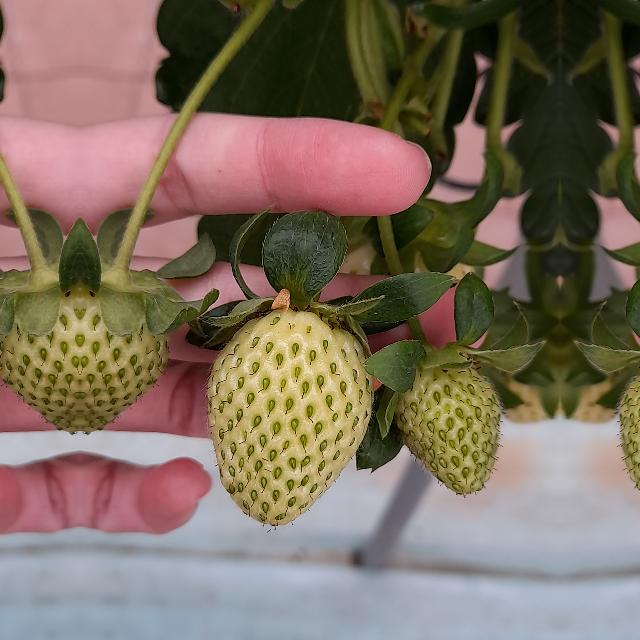Health_25: (207, 308, 373, 526), (80, 270, 176, 438), (392, 358, 504, 498), (0, 270, 80, 438), (615, 358, 640, 497)
